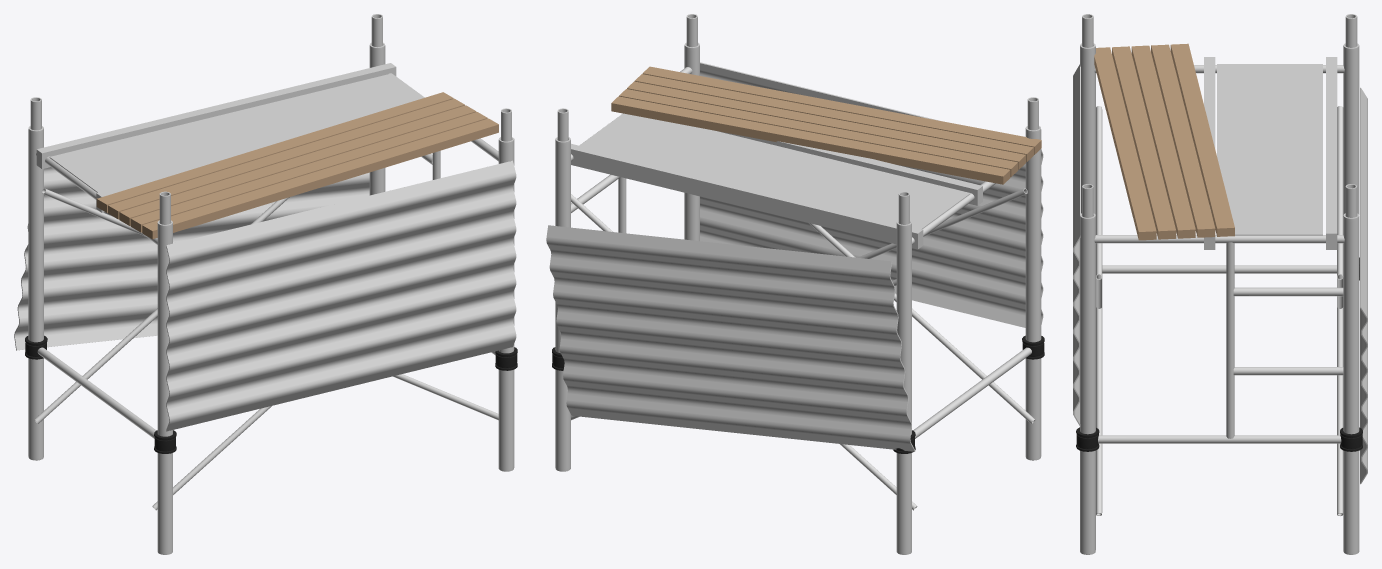
Rendered from Scaffolding.fbx.
The picture shows the model from 3 angles, left to right: view 1: azimuth 30°, elevation 25°; view 2: azimuth 150°, elevation 25°; view 3: azimuth 270°, elevation 25°; orthographic projection. The views are drawn at different scales.
Visible parts, largest first — view 1: Plane.017, Cube.044, Plane.018, Cube.002, Cylinder.001, Cube.001, Cylinder.004, Cylinder.002, Cylinder.003, Cylinder.005, Cylinder.009, Cylinder.008; view 2: Plane.018, Cube.044, Plane.017, Cube.002, Cylinder.001, Cube.001, Cube, Cylinder.004, Cylinder.002, Cylinder.005, Cylinder.003, Cylinder.009 (+1 smaller); view 3: Cube.044, Cube.002, Cylinder.001, Cylinder.003, Cylinder.005, Plane.018, Plane.017, Cube.001, Cylinder.007, Cylinder.008, Cylinder.006, Cylinder.002 (+3 smaller).
Boxes of the visible parts, box(x1,y1,x2,y2) form: Plane.017: box(166, 160, 516, 431); Cube.044: box(96, 92, 498, 239); Plane.018: box(14, 167, 369, 350); Cube.002: box(49, 73, 424, 192); Cylinder.001: box(28, 42, 514, 554); Cube.001: box(36, 63, 396, 168); Cylinder.004: box(34, 197, 289, 510); Cylinder.002: box(30, 14, 511, 224); Cylinder.003: box(42, 188, 498, 420); Cylinder.005: box(37, 347, 495, 438); Cylinder.009: box(25, 335, 517, 453); Cylinder.008: box(36, 73, 498, 244); Plane.018: box(546, 225, 915, 451); Cube.044: box(611, 66, 1041, 184); Plane.017: box(700, 62, 1043, 327); Cube.002: box(579, 113, 970, 229); Cylinder.001: box(555, 42, 1041, 554); Cube.001: box(571, 143, 923, 249); Cube: box(718, 131, 982, 205); Cylinder.004: box(571, 194, 1035, 510); Cylinder.002: box(557, 14, 1038, 224); Cylinder.005: box(913, 347, 1031, 438); Cylinder.003: box(571, 188, 1027, 420); Cylinder.009: box(552, 335, 1044, 453); Cube.044: box(1094, 43, 1234, 240); Cube.002: box(1217, 64, 1322, 235); Cylinder.001: box(1080, 43, 1359, 554); Cylinder.003: box(1096, 106, 1343, 515); Cylinder.005: box(1098, 265, 1341, 443); Plane.018: box(1360, 87, 1367, 484); Plane.017: box(1073, 64, 1080, 426); Cube.001: box(1326, 57, 1337, 249); Cylinder.007: box(1233, 287, 1343, 375); Cylinder.008: box(1094, 65, 1344, 243); Cylinder.006: box(1226, 242, 1234, 438); Cylinder.002: box(1082, 14, 1357, 217).
Size of the model in its own units: 1125 by 1017 by 744.
